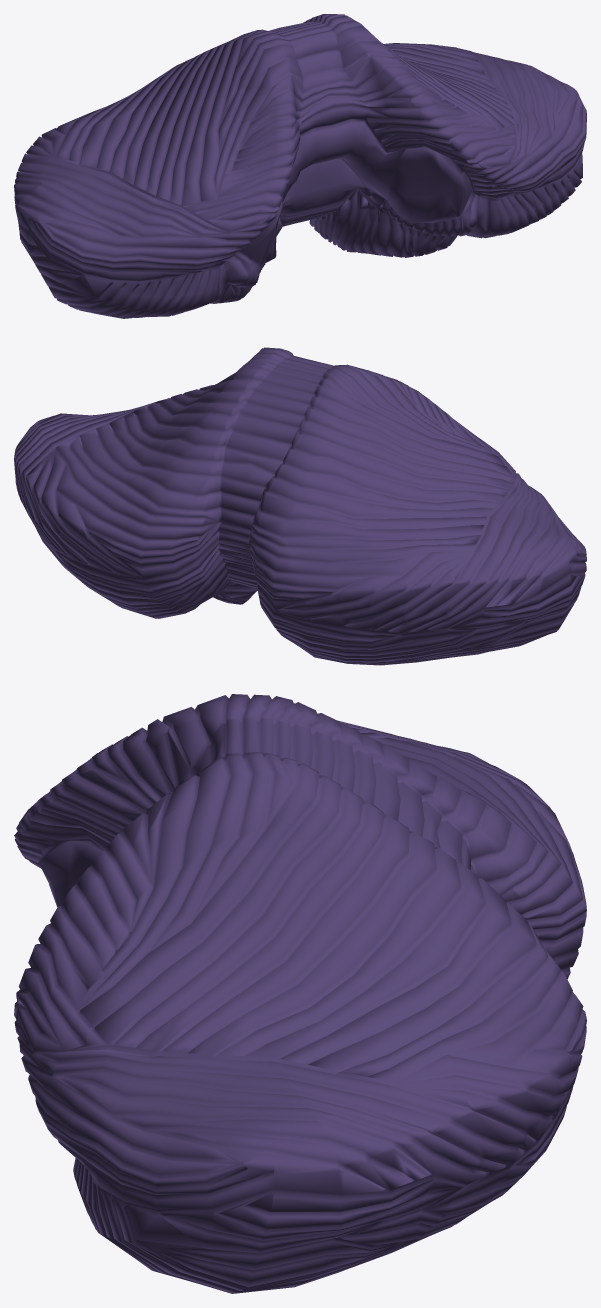
Rendered from Cerebellum.glb.
3 views of the same model, one above another, from view 1: azimuth 30°, elevation 25°; view 2: azimuth 150°, elevation 25°; view 3: azimuth 270°, elevation 25° (orthographic). The views are drawn at different scales.
Visible parts, largest first — view 1: Brain_Part_02; view 2: Brain_Part_02; view 3: Brain_Part_02.
Boxes of the visible parts, x1,y1,x2,y2 form: Brain_Part_02: (14, 14, 586, 318); Brain_Part_02: (14, 347, 586, 665); Brain_Part_02: (14, 694, 586, 1293).
Bounding box in the file's own units: 3.09 × 1.35 × 1.67.
